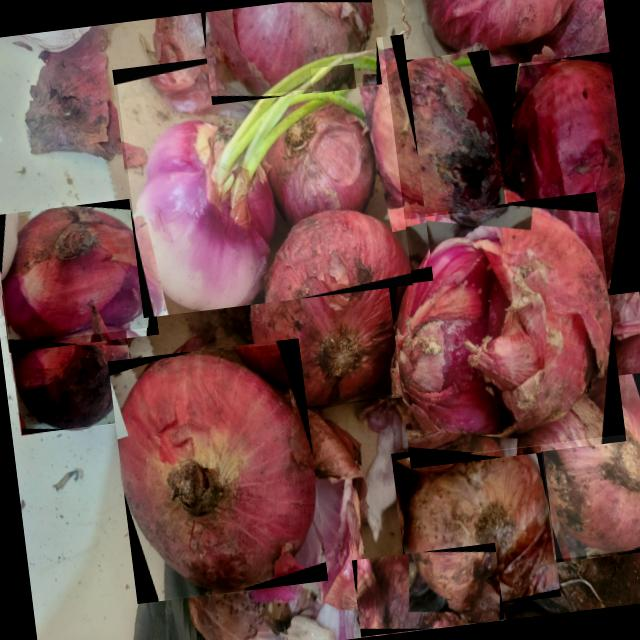mould: (207, 1, 374, 95), (312, 64, 353, 91)
rotten: (394, 206, 612, 454), (117, 356, 316, 591), (251, 217, 405, 406), (503, 60, 625, 297), (404, 439, 547, 608), (374, 58, 506, 233), (2, 206, 150, 341), (534, 380, 640, 551), (13, 305, 129, 429), (357, 552, 498, 628)
sprouting: (134, 39, 384, 310)
